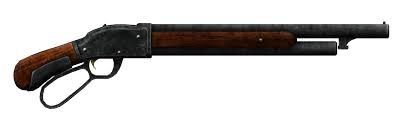gun: (14, 18, 390, 110)
